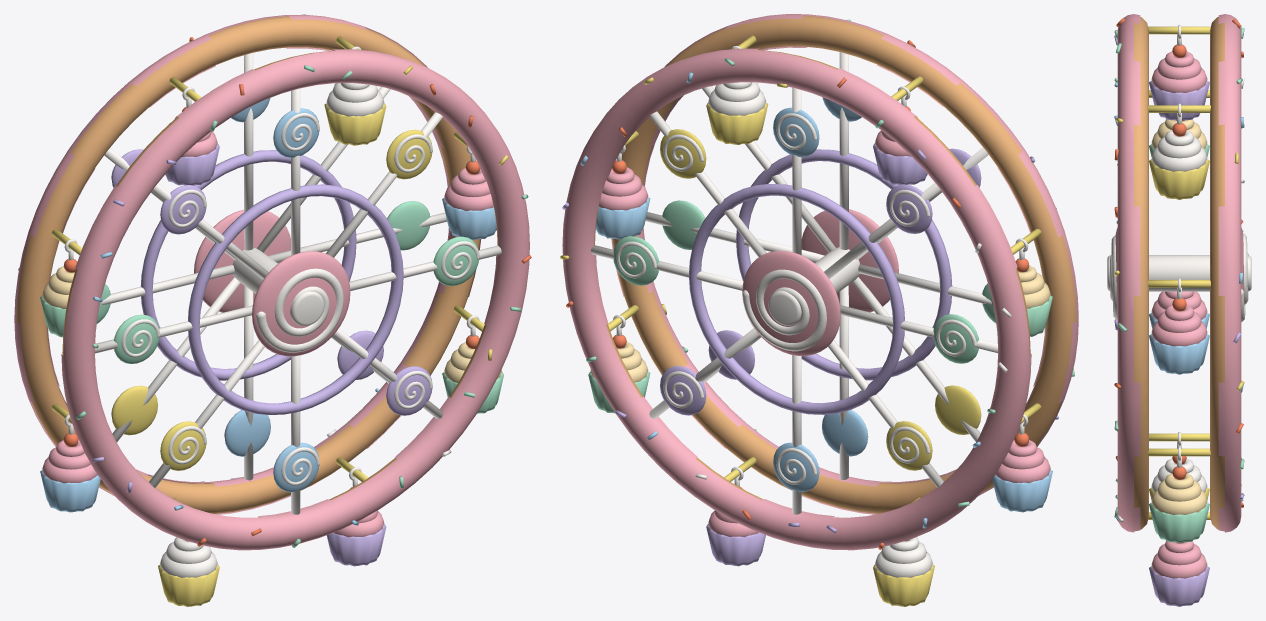
Rendered from ferris_wheel_rotor.glb.
The picture shows the model from 3 angles, left to right: view 1: azimuth 30°, elevation 25°; view 2: azimuth 150°, elevation 25°; view 3: azimuth 270°, elevation 25°; orthographic projection. The views are drawn at different scales.
Visible parts, largest first — view 1: ferris_wheel_rotor; view 2: ferris_wheel_rotor; view 3: ferris_wheel_rotor.
Part boxes in pixels (left/top/right/bottom): ferris_wheel_rotor: left=14, top=14, right=531, bottom=606; ferris_wheel_rotor: left=560, top=14, right=1078, bottom=606; ferris_wheel_rotor: left=1107, top=14, right=1251, bottom=606.
Size of the model in its own units: 6.83 by 7.55 by 1.9.
